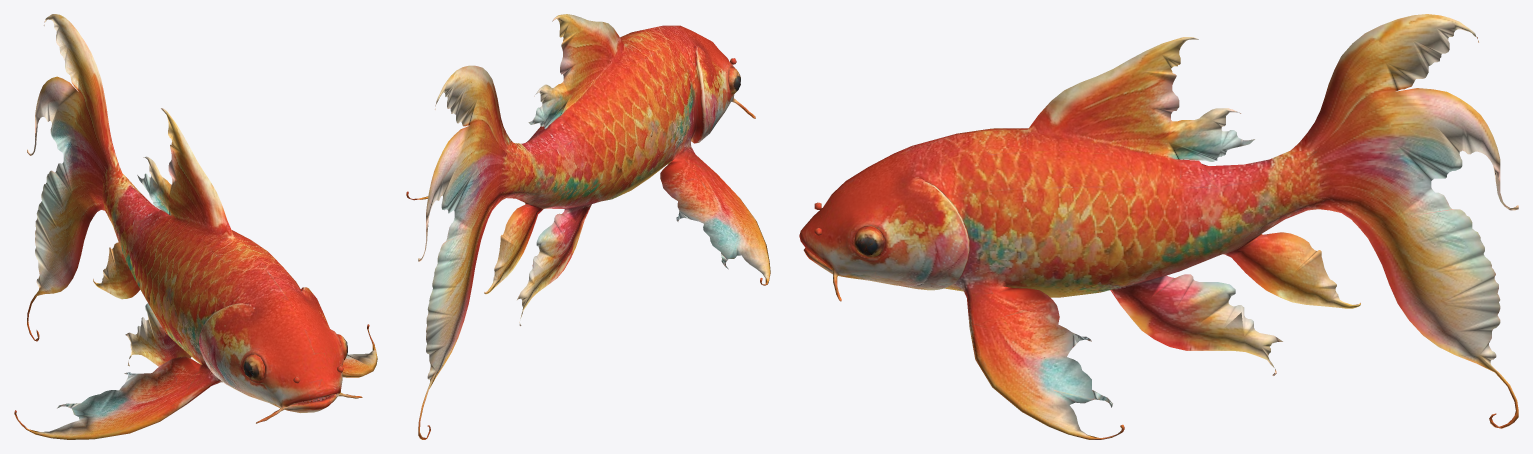
Rendered from 金鲤之影.glb.
The picture shows the model from 3 angles, left to right: view 1: azimuth 30°, elevation 25°; view 2: azimuth 150°, elevation 25°; view 3: azimuth 270°, elevation 25°; orthographic projection. The views are drawn at different scales.
Visible parts, largest first — view 1: tripo_node_140a4cc3-7f15-47f8-b5fd-188b6cee9eda; view 2: tripo_node_140a4cc3-7f15-47f8-b5fd-188b6cee9eda; view 3: tripo_node_140a4cc3-7f15-47f8-b5fd-188b6cee9eda.
Part boxes in pixels (bbox=[...]): tripo_node_140a4cc3-7f15-47f8-b5fd-188b6cee9eda: bbox=[14, 14, 377, 439]; tripo_node_140a4cc3-7f15-47f8-b5fd-188b6cee9eda: bbox=[406, 14, 770, 439]; tripo_node_140a4cc3-7f15-47f8-b5fd-188b6cee9eda: bbox=[799, 14, 1518, 439].
Bounding box in the file's own units: 0.6816 × 0.6348 × 0.998.
Materials: 1 (1 with a texture image).
